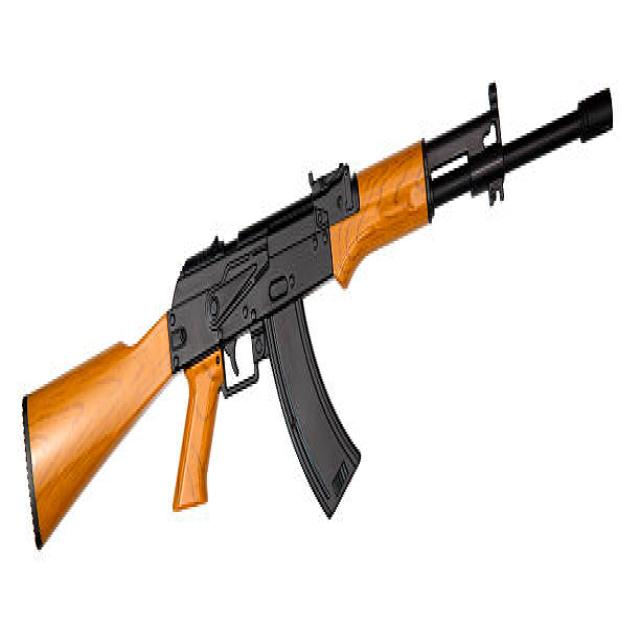rifle: (20, 75, 617, 560)
